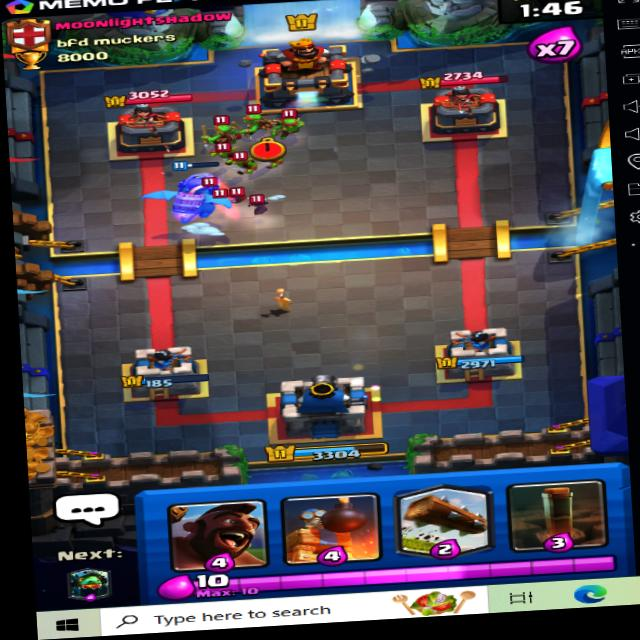bats: (224, 189, 281, 217)
goblin: (205, 140, 242, 168), (227, 151, 264, 176)
spear-goblin: (272, 103, 317, 141), (230, 101, 272, 140), (200, 113, 238, 149)
